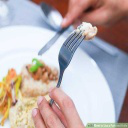fork: (49, 20, 99, 97)
